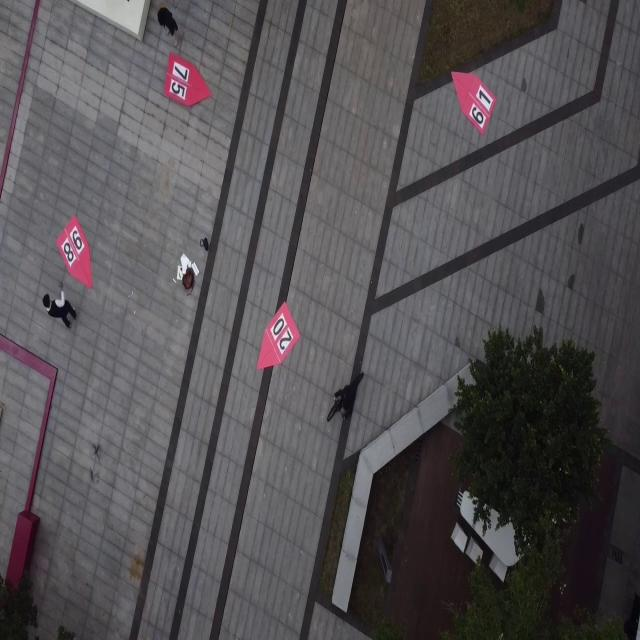-sign-: (256, 300, 300, 370), (451, 70, 495, 137), (55, 216, 93, 290), (165, 52, 213, 108)
